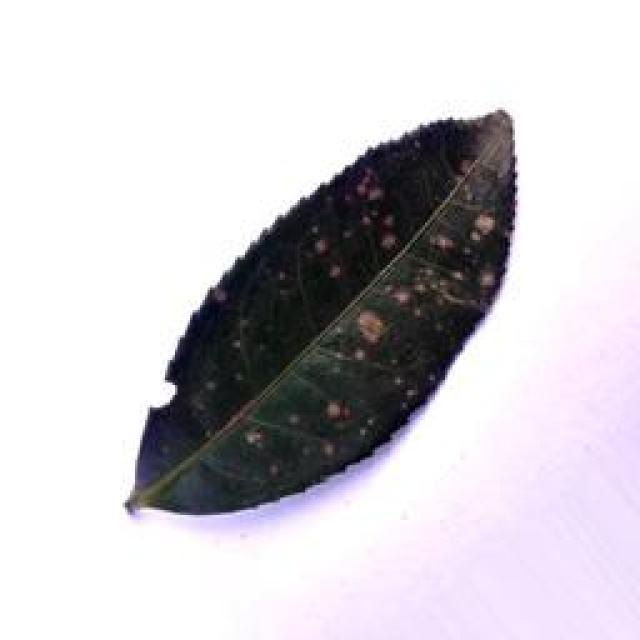Algal Leaf Spot: (126, 106, 525, 509)
